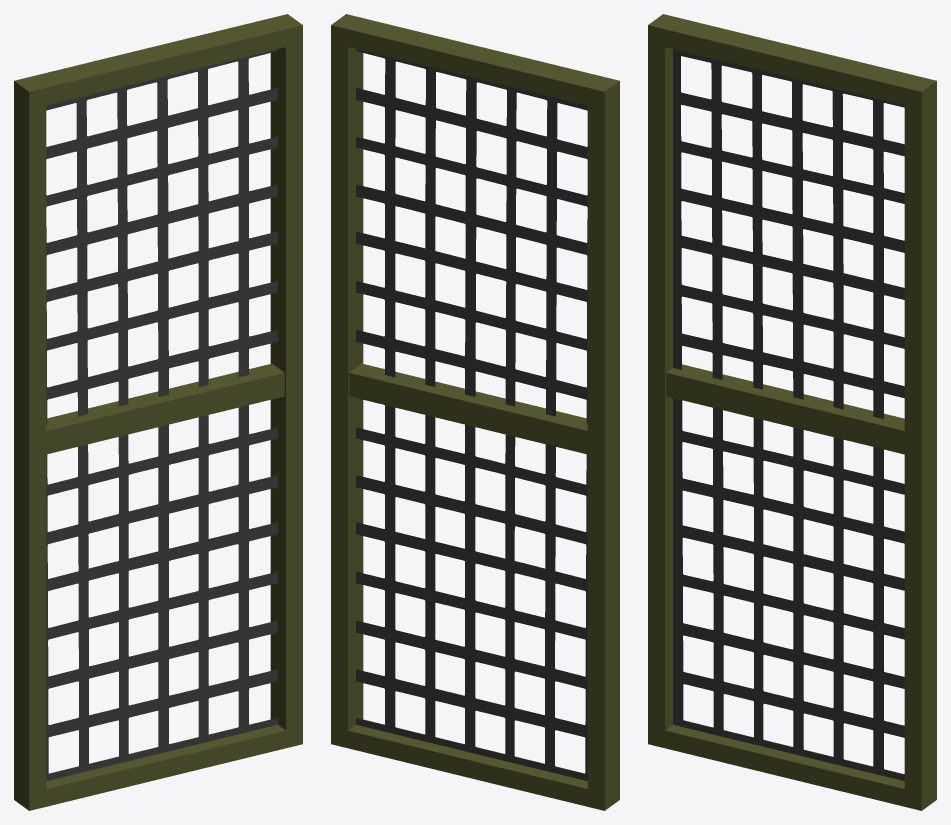
Rendered from SM_Prop_Gunlocker_Door_01.glb.
The picture shows the model from 3 angles, left to right: view 1: azimuth 30°, elevation 25°; view 2: azimuth 150°, elevation 25°; view 3: azimuth 330°, elevation 25°; orthographic projection.
Parts seen in each view (by area): view 1: SM_Prop_Gunlocker_Door_01; view 2: SM_Prop_Gunlocker_Door_01; view 3: SM_Prop_Gunlocker_Door_01.
Boxes of the visible parts, x1=… form: SM_Prop_Gunlocker_Door_01: x1=14, y1=14, x2=302, y2=810; SM_Prop_Gunlocker_Door_01: x1=331, y1=14, x2=619, y2=810; SM_Prop_Gunlocker_Door_01: x1=648, y1=14, x2=936, y2=810.
Bounding box in the file's own units: 0.6673 × 1.67 × 0.0642.
2 materials, 2 textured.
